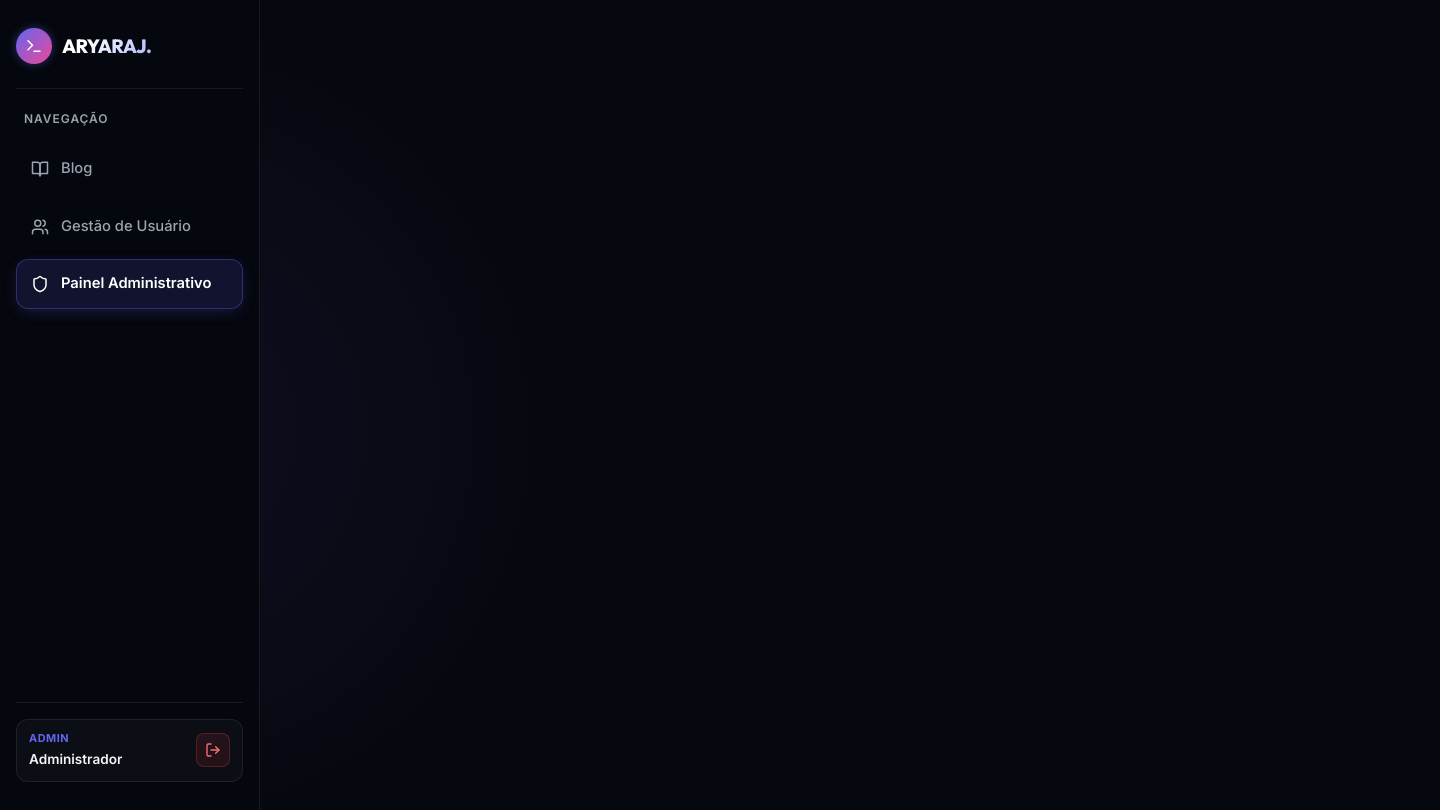
it: Sidebar Component › abre modal de confirmação de logout ao clicar no botão de sair
Click the button with test id "sidebar-logout-btn".
click(213, 750)  # box [196, 733, 230, 767]
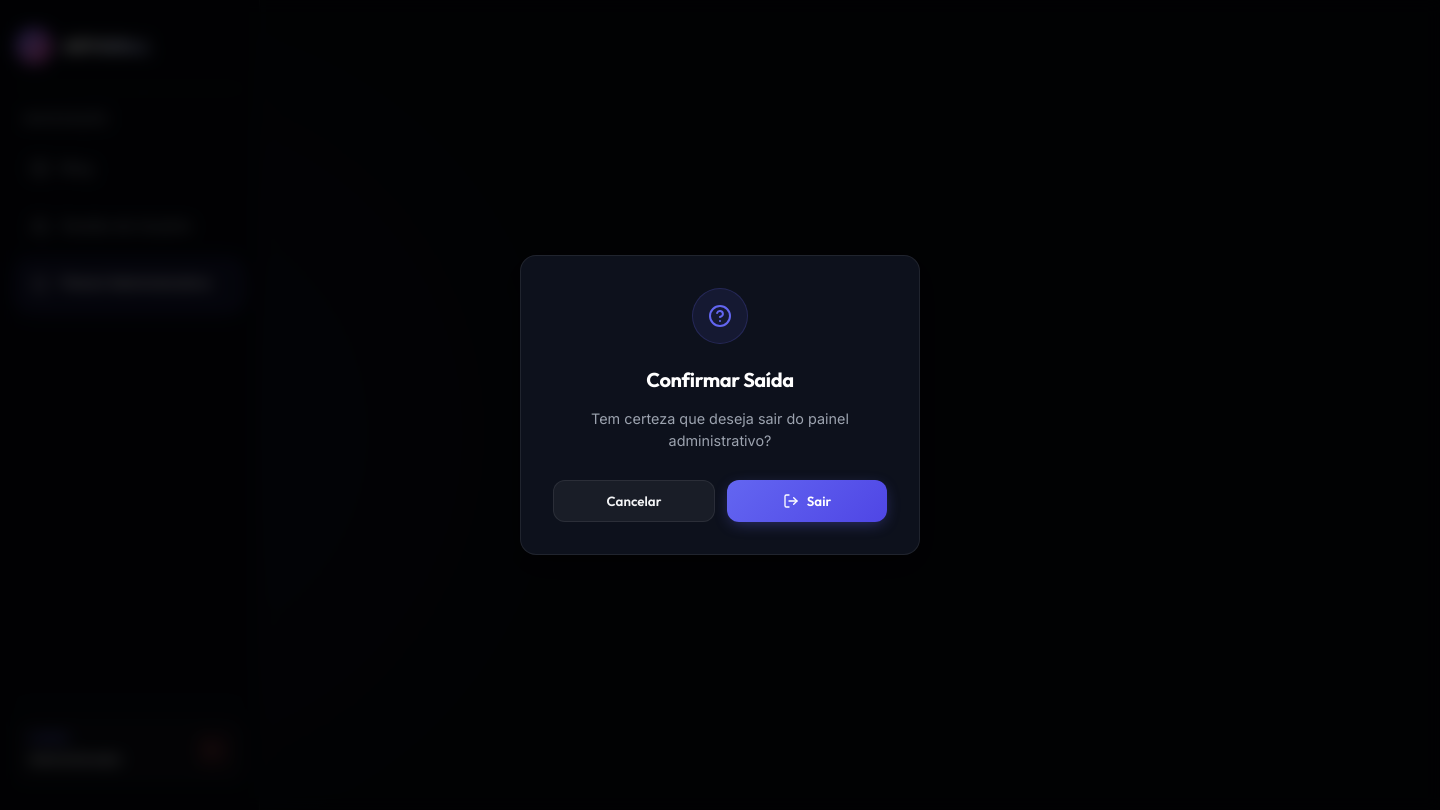
Now the heading "Confirmar Saída" is shown, box [646, 367, 794, 392]
Now the text "Tem certeza que deseja sair do painel administrativo?" is shown, box [591, 410, 849, 449]
